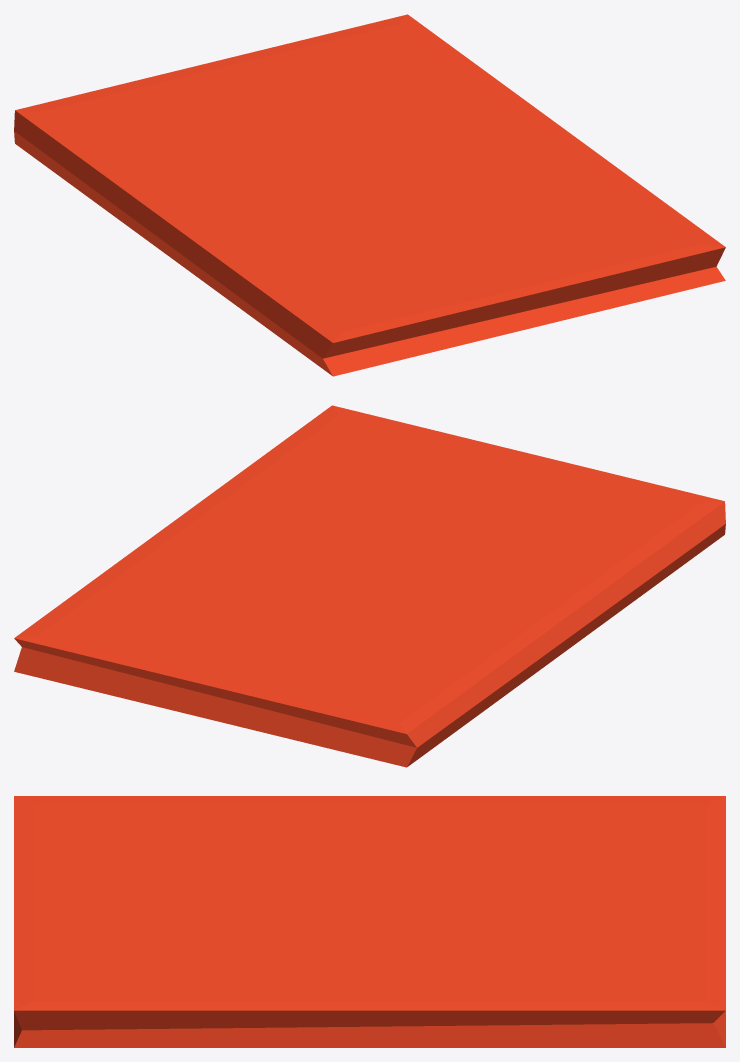
Rendered from SM_Newspaper_C_City.fbx.
The picture shows the model from 3 angles, top to bottom: view 1: azimuth 30°, elevation 25°; view 2: azimuth 150°, elevation 25°; view 3: azimuth 270°, elevation 25°; orthographic projection. The views are drawn at different scales.
Parts seen in each view (by area): view 1: SM_Newspaper_C_City; view 2: SM_Newspaper_C_City; view 3: SM_Newspaper_C_City.
Part boxes in pixels (box(x1,y1,x2,y2)): SM_Newspaper_C_City: box(14, 14, 725, 376); SM_Newspaper_C_City: box(14, 405, 725, 767); SM_Newspaper_C_City: box(14, 796, 725, 1047).
Size of the model in its own units: 0.2796 by 0.0232 by 0.3867.
